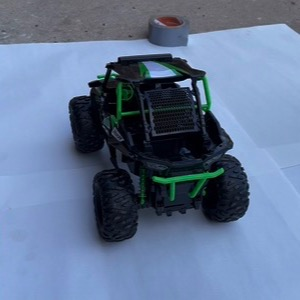polaris: (68, 53, 252, 242)
